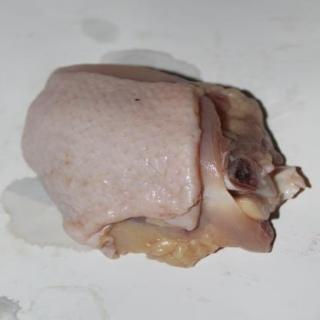Ayam: (23, 67, 304, 270)
